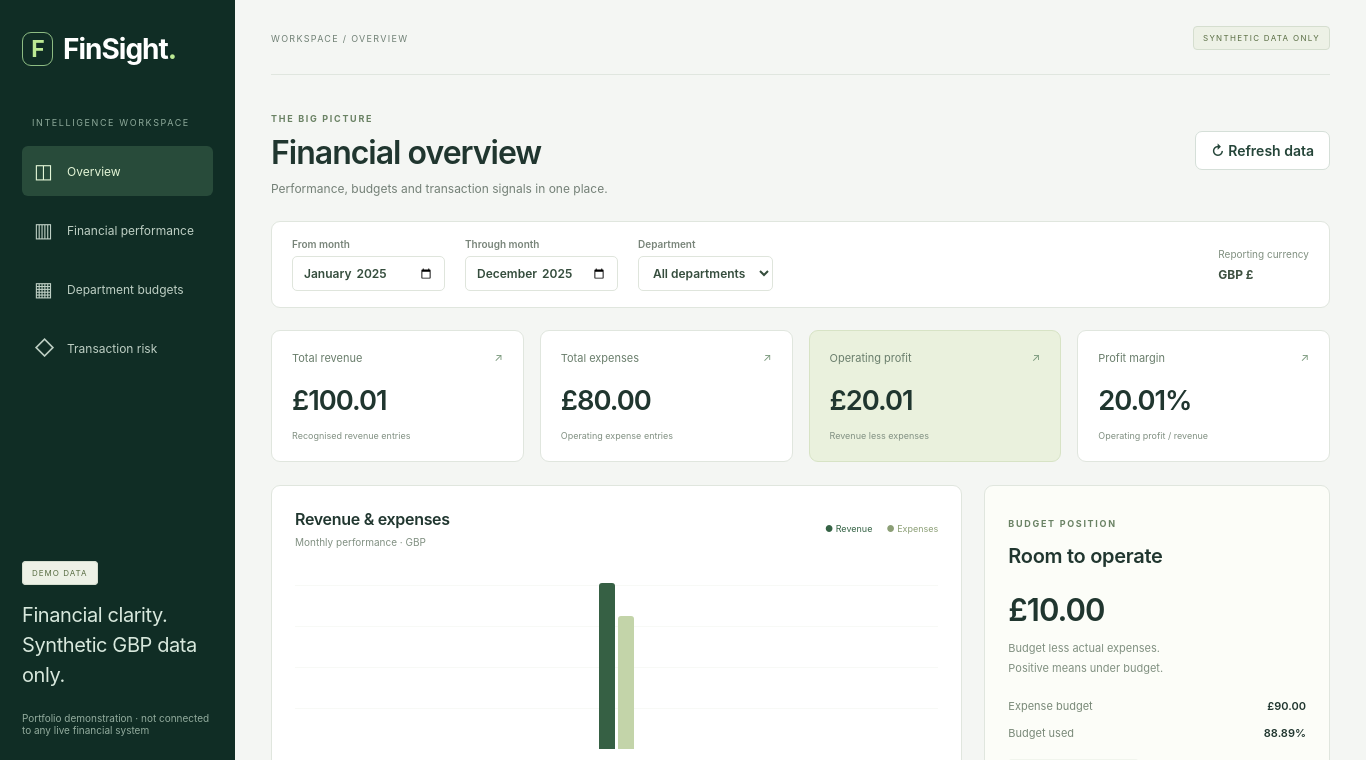
Test: FinSight › rejects reversed date filters locally
The width and height of the screenshot is (1366, 760).
Expected: the text "Operating profit" is shown, [830,351,912,365]
Replace the text in the field labelled "From month" with "2026-01" at (368, 274), box [292,256,445,291]
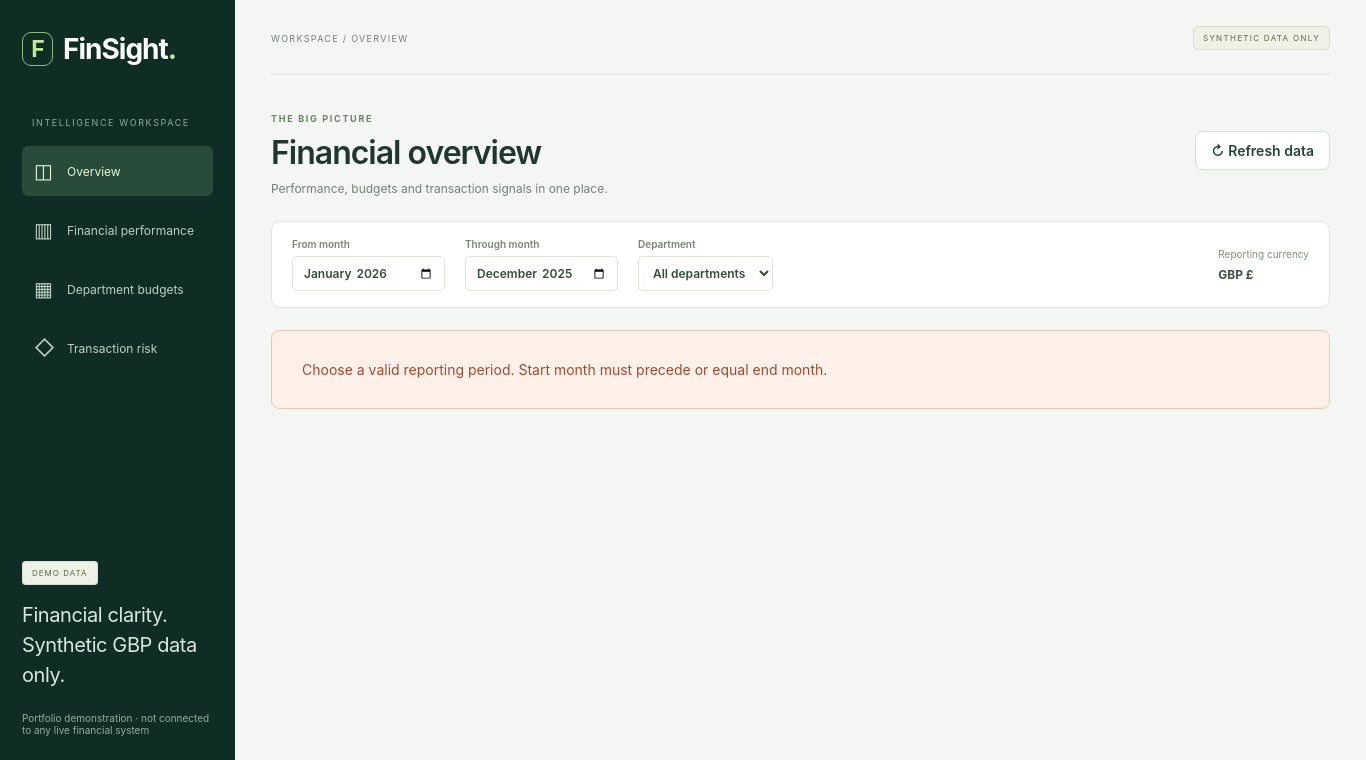
Now the message shows "valid reporting period", box [302,361,827,378]
